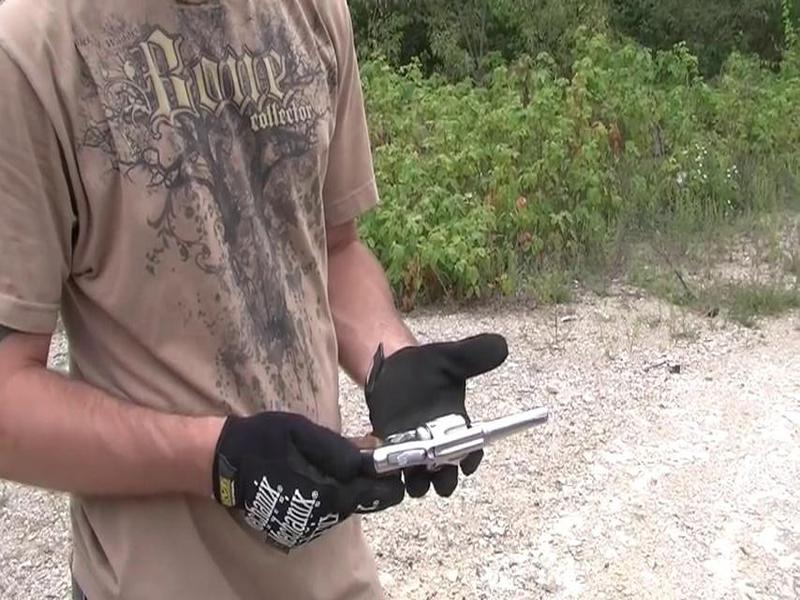Revolver: (330, 396, 557, 498)
